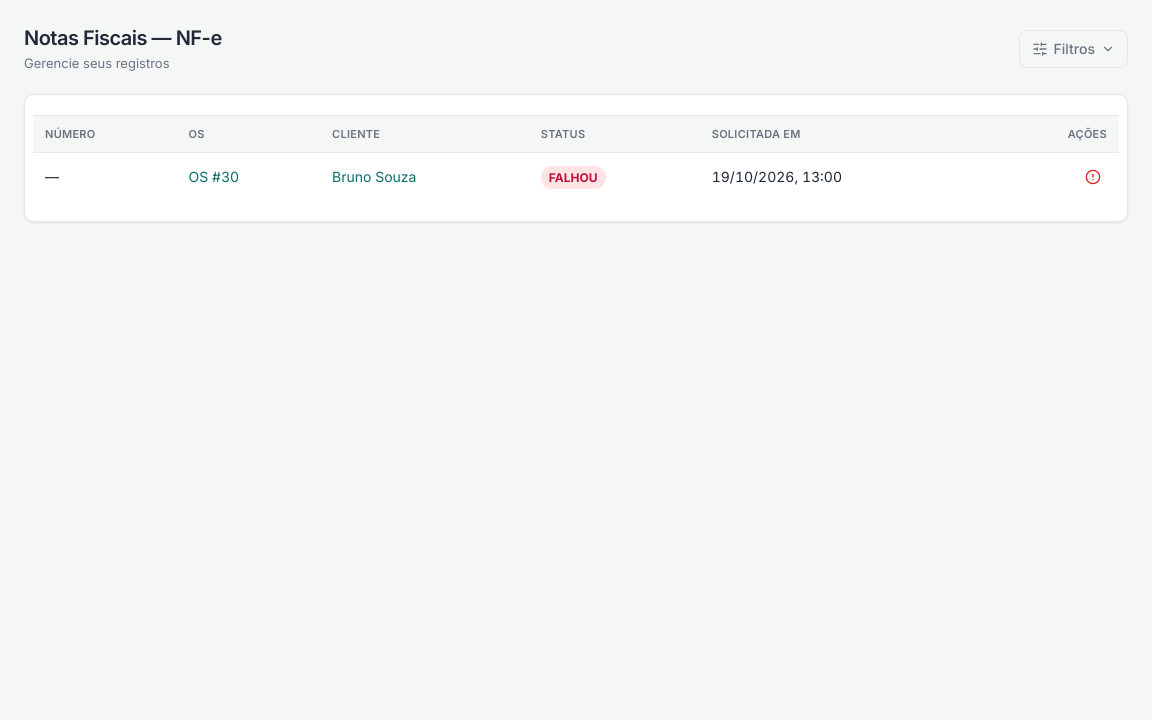
<FiscalNotes> › não mostra o erro cru na listagem, só atrás de uma ação dedicada
The width and height of the screenshot is (1152, 720).
expect the text "Falhou" is shown: met, box left=541, top=166, right=606, bottom=189
expect the text "Rejeição 539: duplicidade" is not shown: met
Click the button named "Ver motivo da falha na NF-e": (1093, 177) left=1079, top=163, right=1107, bottom=191
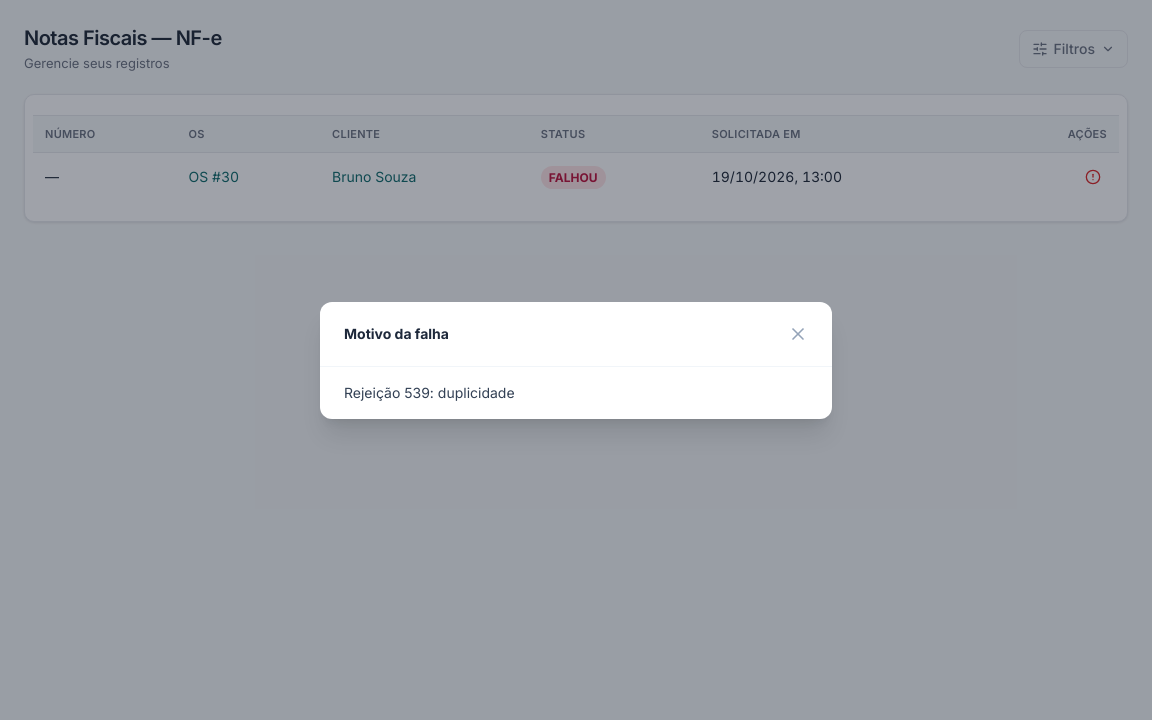
expect the text "Rejeição 539: duplicidade" is shown: met, box left=344, top=384, right=515, bottom=400
